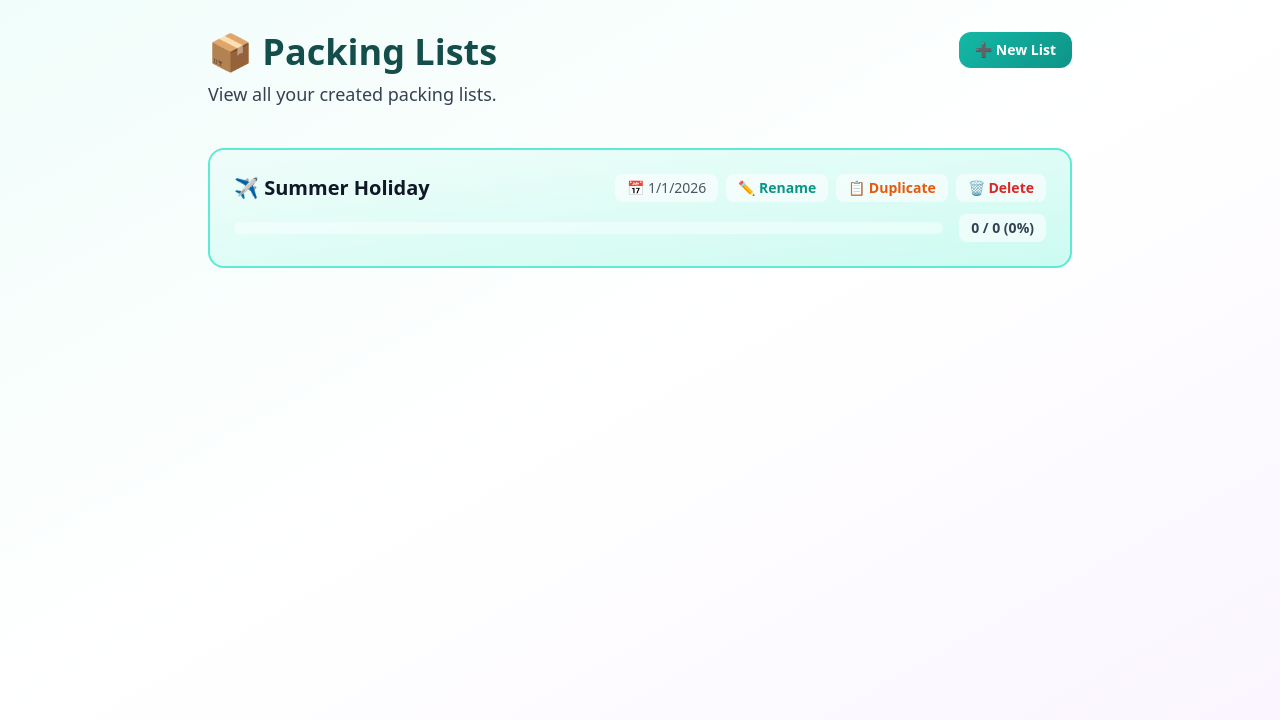
Test case: PackingLists delete confirmation › cancels deletion when Cancel is clicked in the dialog
The image size is (1280, 720).
Expected: the heading "✈️ Summer Holiday" is shown, [234,174,430,202]
Click the button "🗑️ Delete".
click(1001, 188)  # box [956,174,1046,202]
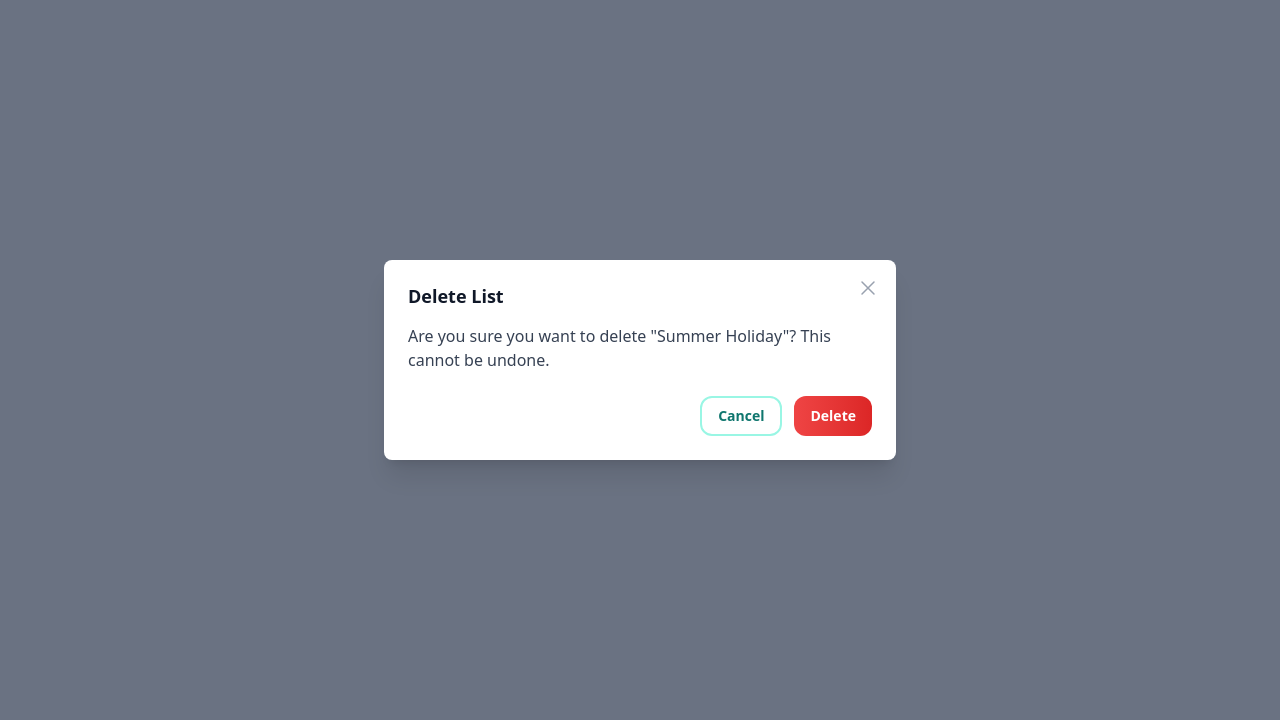
Result: the text "cannot be undone" is shown at [408,325,831,371]
Click the button "Cancel".
click(741, 416)  # box [700,396,782,436]
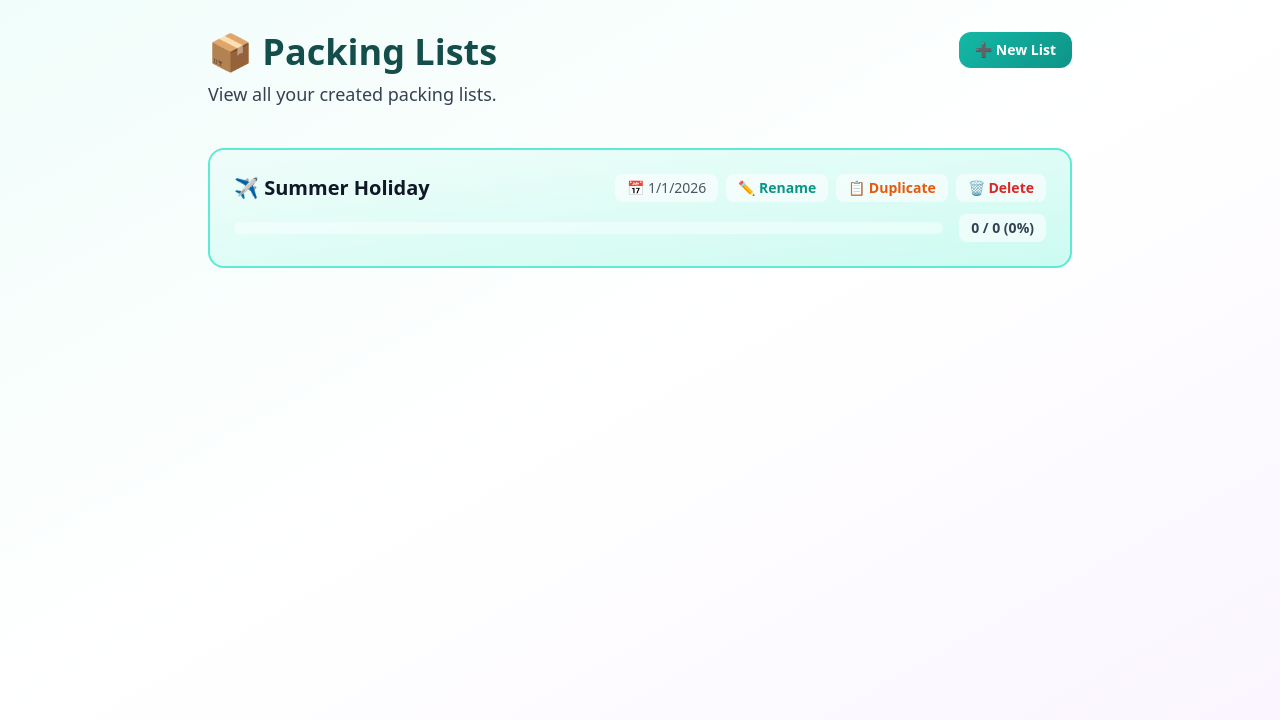
Result: the text "cannot be undone" is gone
